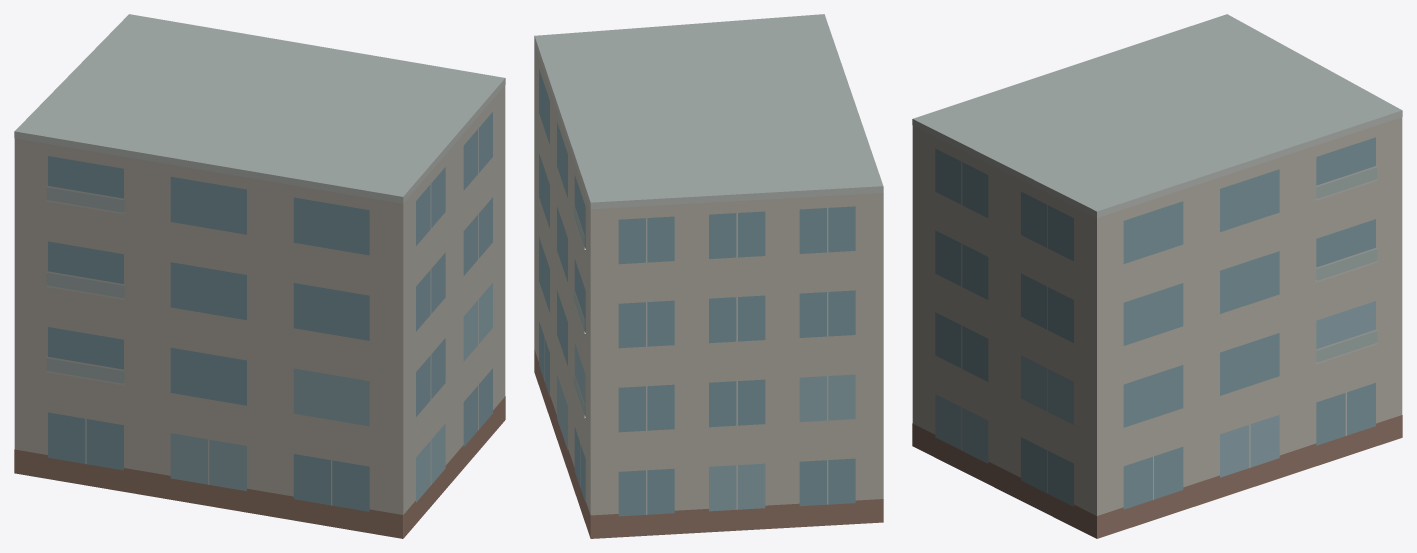
File: survey-upis-32950032.glb
3 renders of one model, left to right at view 1: azimuth 30°, elevation 25°; view 2: azimuth 150°, elevation 25°; view 3: azimuth 270°, elevation 25°, orthographic. The views are drawn at different scales.
Parts seen in each view (by area): view 1: survey-upis-32950032.tmp; view 2: survey-upis-32950032.tmp; view 3: survey-upis-32950032.tmp.
Boxes of the visible parts, <box> form: survey-upis-32950032.tmp: <box>14,14,505,538</box>; survey-upis-32950032.tmp: <box>534,14,883,538</box>; survey-upis-32950032.tmp: <box>912,14,1402,538</box>.
Bounding box in the file's own units: 15.8 × 12.2 × 16.56.
